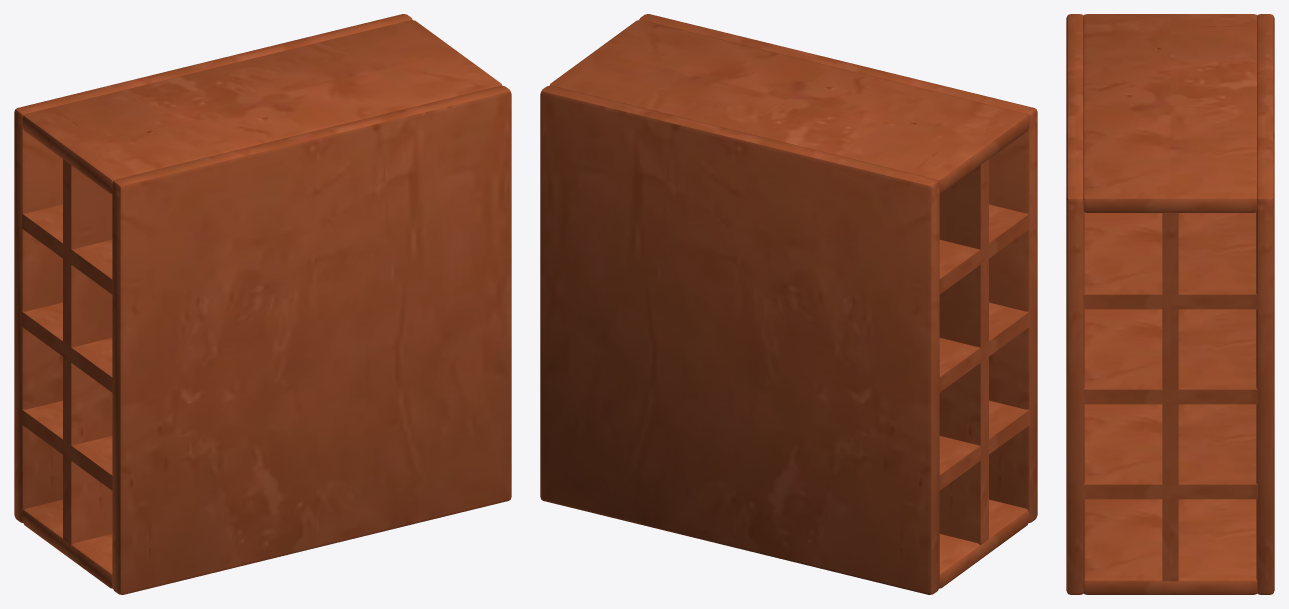
File: ALV-BLC-002.glb
3 renders of one model, left to right at view 1: azimuth 30°, elevation 25°; view 2: azimuth 150°, elevation 25°; view 3: azimuth 270°, elevation 25°, orthographic. The views are drawn at different scales.
Parts seen in each view (by area): view 1: ALV-BLC-002_pf1, ALV-BLC-002_pt, ALV-BLC-002_pf2, ALV-BLC-002_sv1, ALV-BLC-002_sh3, ALV-BLC-002_sh2, ALV-BLC-002_sh1, ALV-BLC-002_pb; view 2: ALV-BLC-002_pf2, ALV-BLC-002_pt, ALV-BLC-002_pf1, ALV-BLC-002_sv1, ALV-BLC-002_sh3, ALV-BLC-002_pb, ALV-BLC-002_sh2, ALV-BLC-002_sh1; view 3: ALV-BLC-002_pt, ALV-BLC-002_sh3, ALV-BLC-002_sh1, ALV-BLC-002_sh2, ALV-BLC-002_pb, ALV-BLC-002_pf1, ALV-BLC-002_pf2, ALV-BLC-002_sv1.
Boxes of the visible parts, box(x1,y1,x2,y2) form: ALV-BLC-002_pf1: box(112, 85, 511, 594); ALV-BLC-002_pt: box(22, 20, 502, 193); ALV-BLC-002_pf2: box(14, 14, 412, 522); ALV-BLC-002_sv1: box(63, 159, 112, 545); ALV-BLC-002_sh3: box(22, 204, 112, 294); ALV-BLC-002_sh2: box(22, 302, 112, 392); ALV-BLC-002_sh1: box(22, 400, 112, 490); ALV-BLC-002_pb: box(22, 499, 112, 588); ALV-BLC-002_pf2: box(540, 85, 939, 594); ALV-BLC-002_pt: box(549, 20, 1029, 193); ALV-BLC-002_pf1: box(639, 14, 1037, 522); ALV-BLC-002_sv1: box(939, 159, 988, 545); ALV-BLC-002_sh3: box(939, 204, 1029, 294); ALV-BLC-002_pb: box(939, 499, 1029, 588); ALV-BLC-002_sh2: box(939, 302, 1029, 392); ALV-BLC-002_sh1: box(939, 400, 1029, 490); ALV-BLC-002_pt: box(1083, 14, 1257, 212); ALV-BLC-002_sh3: box(1083, 212, 1257, 309); ALV-BLC-002_sh1: box(1083, 404, 1257, 499); ALV-BLC-002_sh2: box(1083, 309, 1257, 404); ALV-BLC-002_pb: box(1083, 499, 1257, 594); ALV-BLC-002_pf1: box(1066, 14, 1084, 594); ALV-BLC-002_pf2: box(1256, 14, 1274, 594); ALV-BLC-002_sv1: box(1162, 212, 1178, 581).
Size of the model in its own units: 0.19 by 0.19 by 0.09.
Materials: 1 (1 with a texture image).
